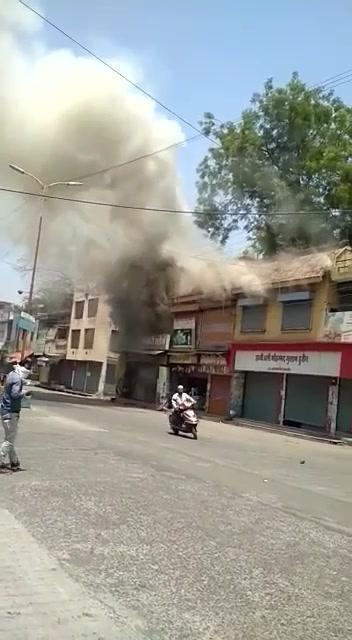smoke: (0, 0, 267, 395)
